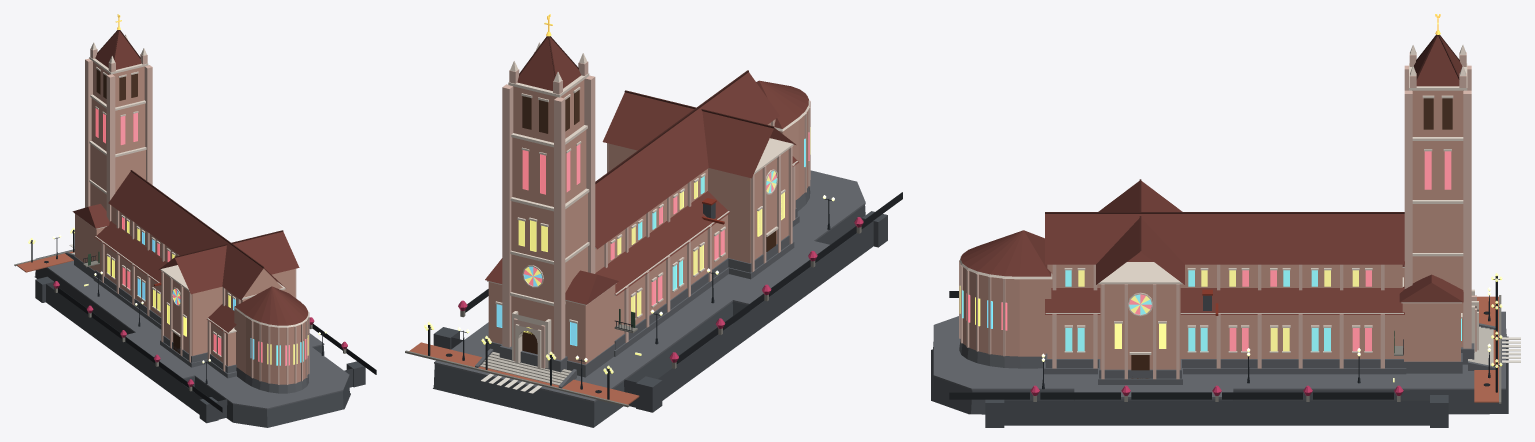
The model's file is lm_03_nha_tho_con_ga.glb.
The picture shows the model from 3 angles, left to right: view 1: azimuth 30°, elevation 25°; view 2: azimuth 150°, elevation 25°; view 3: azimuth 270°, elevation 25°; orthographic projection. The views are drawn at different scales.
Visible parts, largest first — view 1: Cathedral_Terracotta_Pink_Walls, Cathedral_Steep_Tile_Roofs, Foundation_Plinth_Trim, Cathedral_Romanesque_Pilasters, Phase2_Foundation_Skirt_Minus3p5m, Foundation_Skirt, Cathedral_Ashlar_Stone_Plinth, Cathedral_Cream_Arch_Moldings, Phase2_WroughtIron_Balconies_Railings_Manholes, Cathedral_StainedGlass_Ruby, Cathedral_StainedGlass_Amber, Cathedral_Roof_Ridges (+3 smaller); view 2: Cathedral_Terracotta_Pink_Walls, Cathedral_Steep_Tile_Roofs, Cathedral_Romanesque_Pilasters, Foundation_Plinth_Trim, Phase2_Foundation_Skirt_Minus3p5m, Foundation_Skirt, Cathedral_Cream_Arch_Moldings, Cathedral_Ashlar_Stone_Plinth, Phase2_WroughtIron_Balconies_Railings_Manholes, Cathedral_StainedGlass_Ruby, Cathedral_StainedGlass_Amber, Phase2_Interlocking_Brick_Sidewalk (+6 smaller); view 3: Cathedral_Terracotta_Pink_Walls, Cathedral_Steep_Tile_Roofs, Phase2_Foundation_Skirt_Minus3p5m, Foundation_Plinth_Trim, Cathedral_Romanesque_Pilasters, Cathedral_Ashlar_Stone_Plinth, Cathedral_Cream_Arch_Moldings, Foundation_Skirt, Phase2_WroughtIron_Balconies_Railings_Manholes, Cathedral_StainedGlass_Ruby, Cathedral_StainedGlass_Azure, Cathedral_StainedGlass_Amber (+4 smaller).
Part boxes in pixels (x1,y1,x2,y2): Cathedral_Terracotta_Pink_Walls: (75,61,307,384); Cathedral_Steep_Tile_Roofs: (72,30,307,333); Foundation_Plinth_Trim: (36,249,349,409); Cathedral_Romanesque_Pilasters: (85,41,309,384); Phase2_Foundation_Skirt_Minus3p5m: (35,276,365,423); Foundation_Skirt: (34,268,350,427); Cathedral_Ashlar_Stone_Plinth: (74,256,308,393); Cathedral_Cream_Arch_Moldings: (74,34,308,356); Phase2_WroughtIron_Balconies_Railings_Manholes: (30,229,376,412); Cathedral_StainedGlass_Ruby: (95,108,307,365); Cathedral_StainedGlass_Amber: (107,221,308,364); Cathedral_Roof_Ridges: (97,30,283,268); Cathedral_Terracotta_Pink_Walls: (488,80,808,364); Cathedral_Steep_Tile_Roofs: (485,37,808,304); Cathedral_Romanesque_Pilasters: (502,52,810,368); Foundation_Plinth_Trim: (434,170,865,402); Phase2_Foundation_Skirt_Minus3p5m: (433,203,887,412); Foundation_Skirt: (433,205,865,427); Cathedral_Cream_Arch_Moldings: (487,42,809,368); Cathedral_Ashlar_Stone_Plinth: (487,186,810,377); Phase2_WroughtIron_Balconies_Railings_Manholes: (428,192,902,399); Cathedral_StainedGlass_Ruby: (522,132,809,305); Cathedral_StainedGlass_Amber: (518,127,810,334); Phase2_Interlocking_Brick_Sidewalk: (409,342,639,404); Cathedral_Terracotta_Pink_Walls: (960,90,1463,369); Cathedral_Steep_Tile_Roofs: (960,35,1463,314); Phase2_Foundation_Skirt_Minus3p5m: (985,295,1448,427); Foundation_Plinth_Trim: (933,311,1505,398); Cathedral_Romanesque_Pilasters: (959,52,1476,379); Cathedral_Ashlar_Stone_Plinth: (959,339,1474,384); Cathedral_Cream_Arch_Moldings: (959,45,1478,354); Foundation_Skirt: (931,329,1508,414); Phase2_WroughtIron_Balconies_Railings_Manholes: (949,276,1500,399); Cathedral_StainedGlass_Ruby: (966,151,1451,351); Cathedral_StainedGlass_Azure: (962,270,1461,351); Cathedral_StainedGlass_Amber: (959,270,1358,351).
Size of the model in its own units: 32.13 by 50.5 by 74.73.
